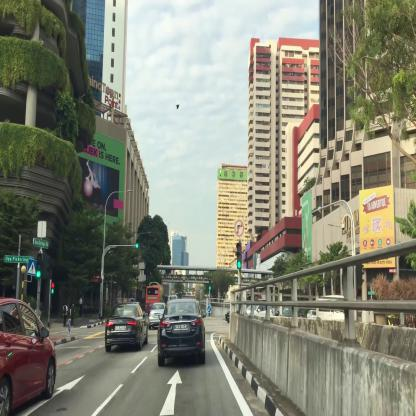green_traffic_light: (236, 244, 242, 268), (136, 243, 143, 247), (209, 280, 210, 289)
